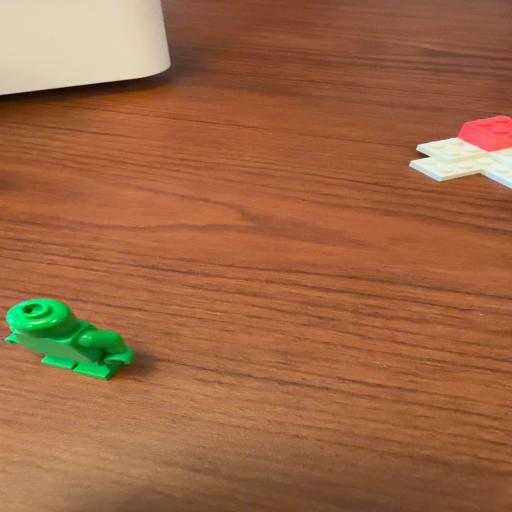UnoQ-minifig-detector: (5, 299, 134, 380)
